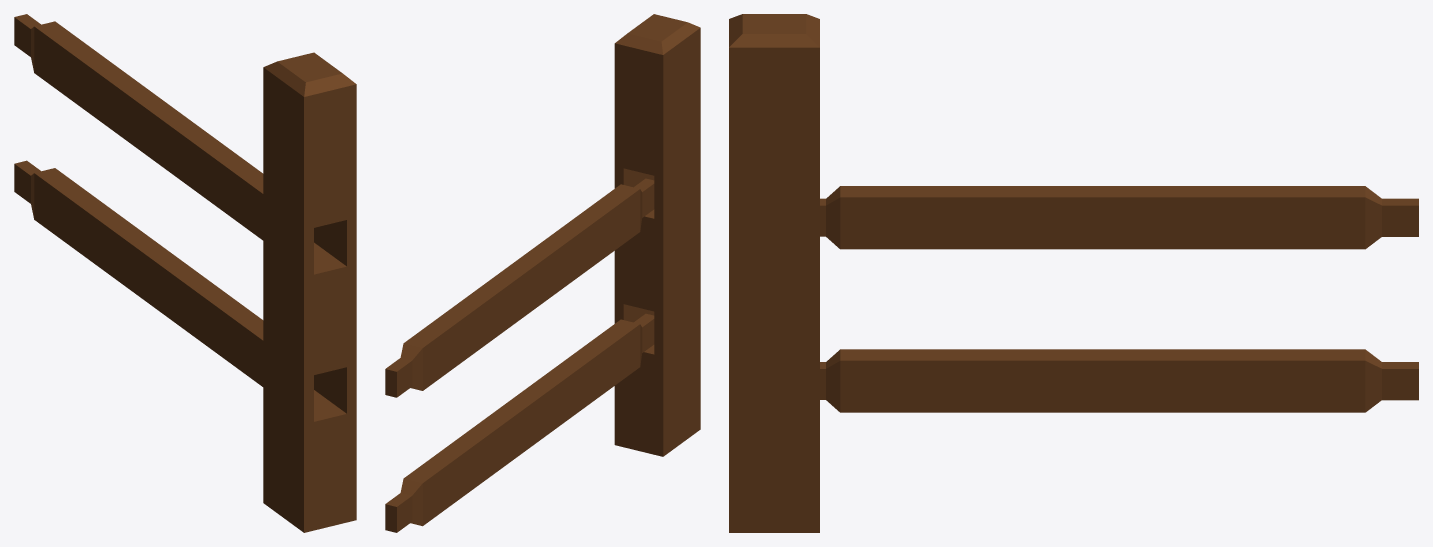
Rendered from FENCE_V1.fbx.
3 renders of one model, left to right at view 1: azimuth 30°, elevation 25°; view 2: azimuth 150°, elevation 25°; view 3: azimuth 270°, elevation 25°, orthographic. The views are drawn at different scales.
Visible parts, largest first — view 1: Cube, Cube.001, Cube.002; view 2: Cube, Cube.001, Cube.002; view 3: Cube, Cube.002, Cube.001.
Boxes of the visible parts, box(x1,y1,x2,y2) form: Cube: box(263, 52, 356, 532); Cube.001: box(14, 160, 263, 386); Cube.002: box(14, 14, 263, 240); Cube: box(614, 14, 700, 456); Cube.001: box(385, 313, 654, 532); Cube.002: box(385, 178, 654, 397); Cube: box(729, 14, 819, 532); Cube.002: box(820, 186, 1418, 249); Cube.001: box(820, 349, 1418, 412).
Bounding box in the file's own units: 25.21 × 204 × 258.
